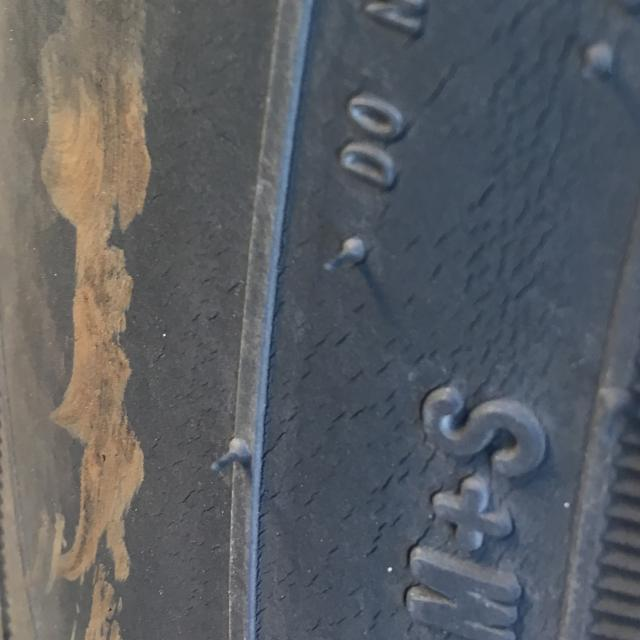Cracks: (122, 0, 640, 640)
